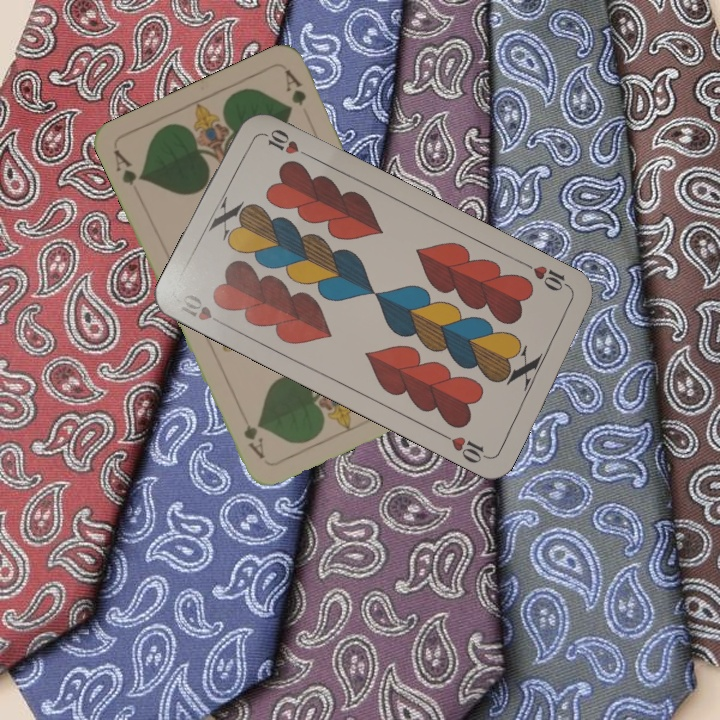GA: (110, 145, 146, 188)
H10: (174, 290, 230, 328), (520, 258, 575, 294)
